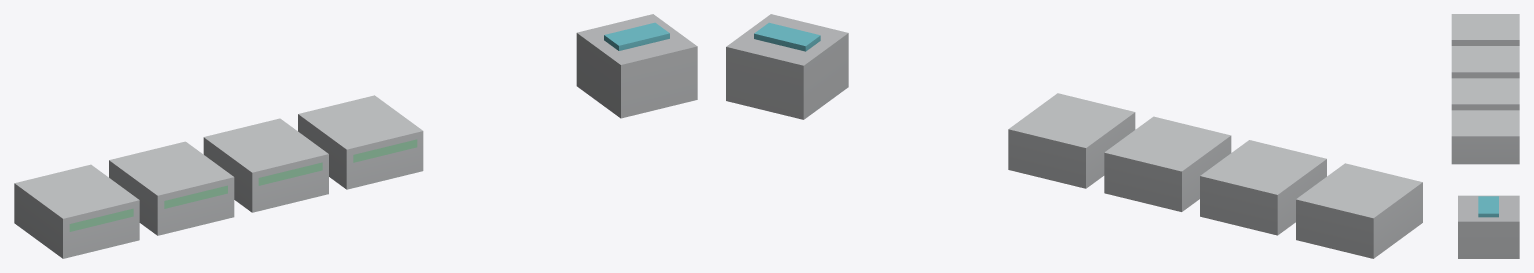
Rendered from plant_battery_l1.glb.
3 views of the same model, side by side, from view 1: azimuth 30°, elevation 25°; view 2: azimuth 150°, elevation 25°; view 3: azimuth 270°, elevation 25° (orthographic). The views are drawn at different scales.
Parts seen in each view (by area): view 1: plant_battery_l1; view 2: plant_battery_l1; view 3: plant_battery_l1.
Boxes of the visible parts, x1,y1,x2,y2 form: plant_battery_l1: (14, 14, 697, 258); plant_battery_l1: (726, 14, 1422, 258); plant_battery_l1: (1451, 14, 1519, 258).
Size of the model in its own units: 50 by 4.4 by 6.62.
